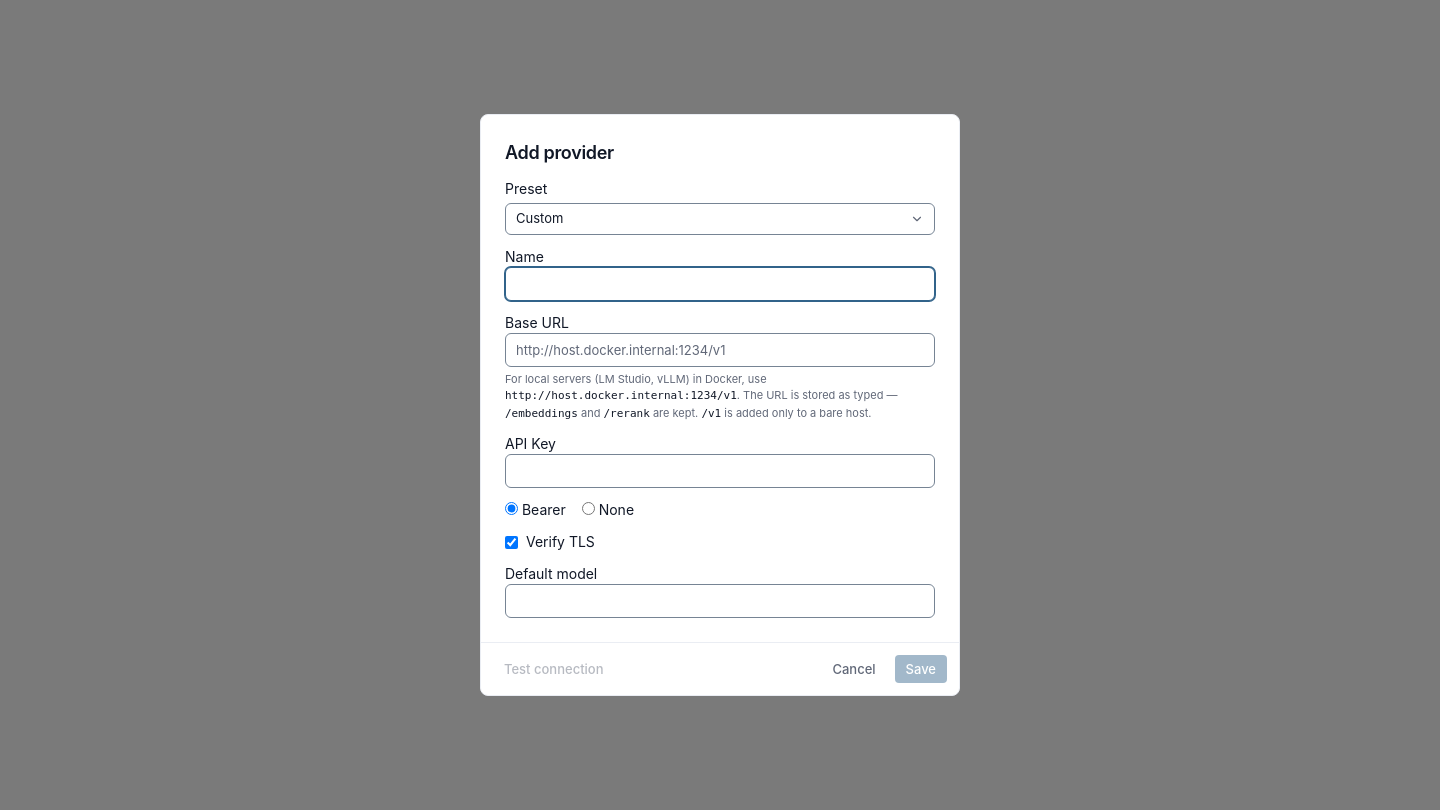
it: ProviderEditModal — presets › does not overwrite a typed URL until the operator confirms
In the field labelled "Base URL": (720, 350) x1=505 y1=333 x2=935 y2=367, type "http://localhost:11434/v1"
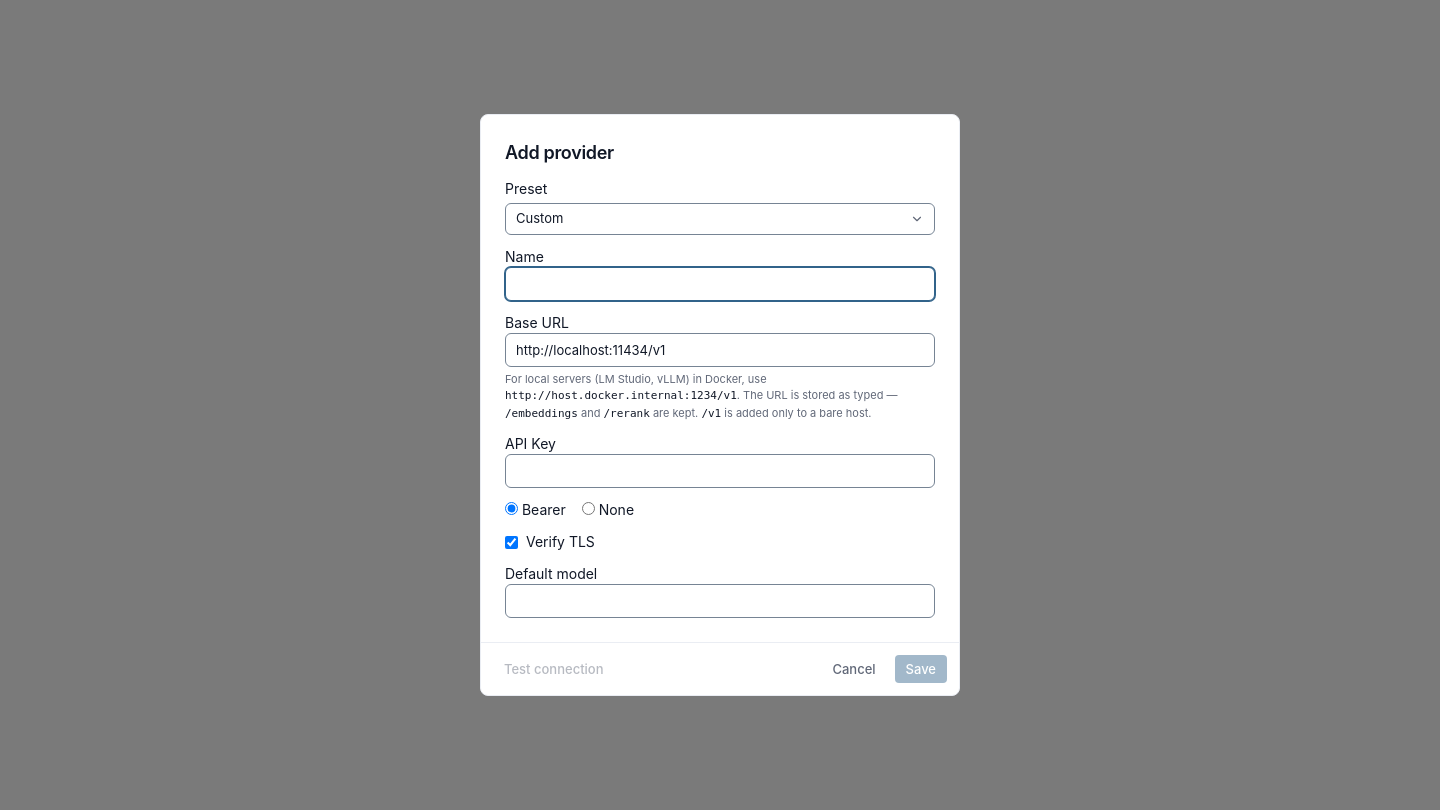
Select "OpenAI" in the dropdown labelled "Preset": (720, 219) x1=505 y1=203 x2=935 y2=235
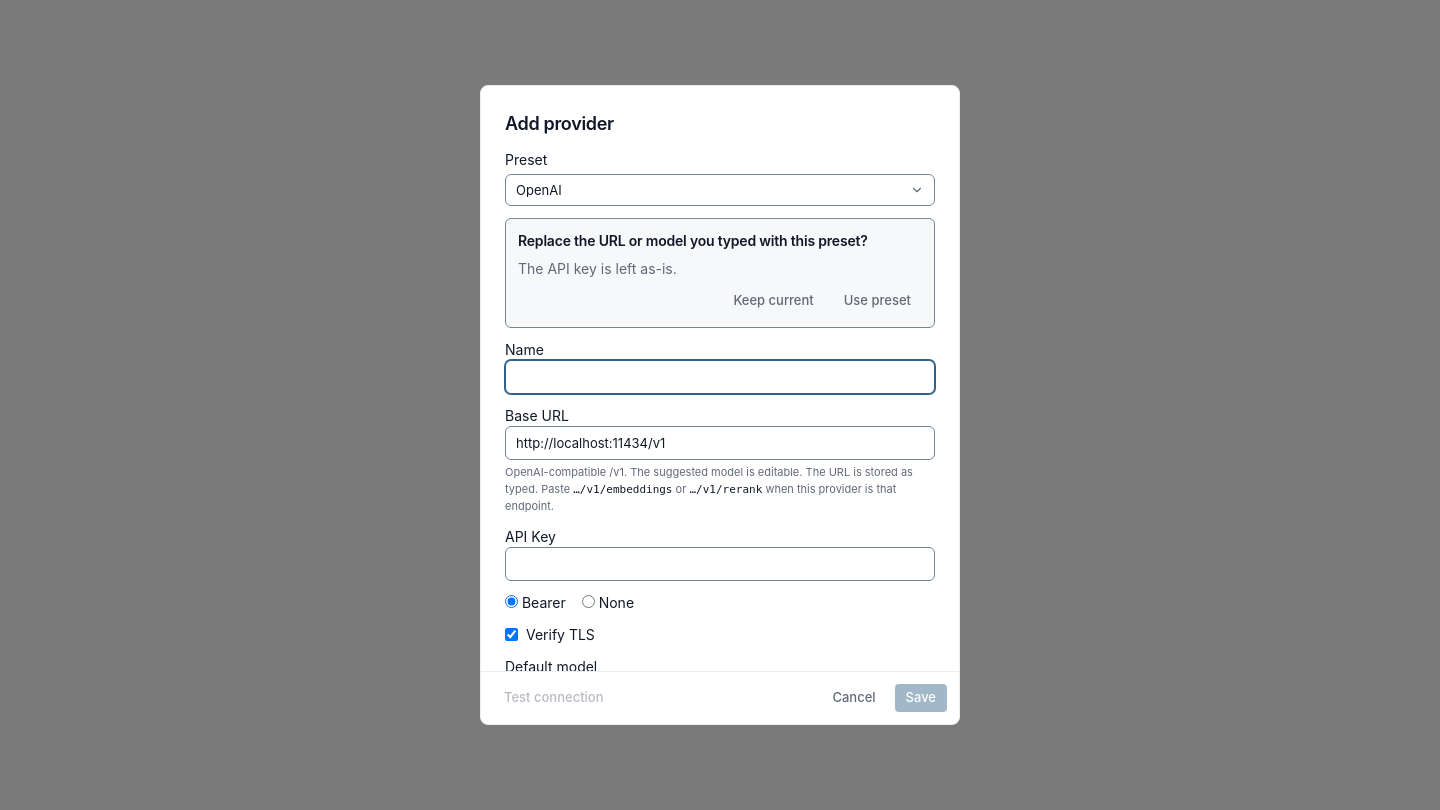
Expected: the element with test id "preset-overwrite-confirm" is shown, x1=505 y1=218 x2=935 y2=328
Click the button "Keep current": click(774, 301) x1=722 y1=287 x2=825 y2=315
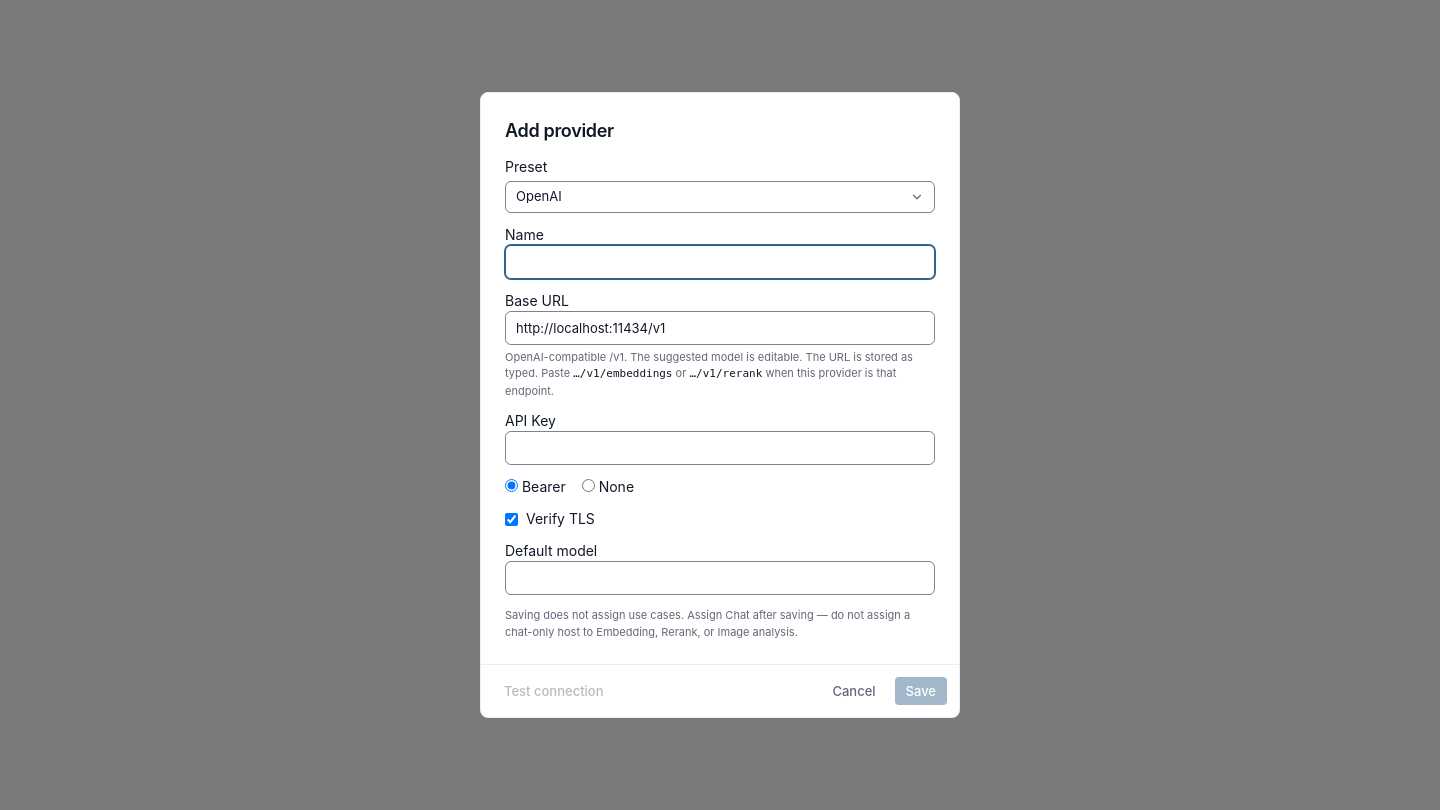
Expected: the element with test id "preset-overwrite-confirm" is gone
